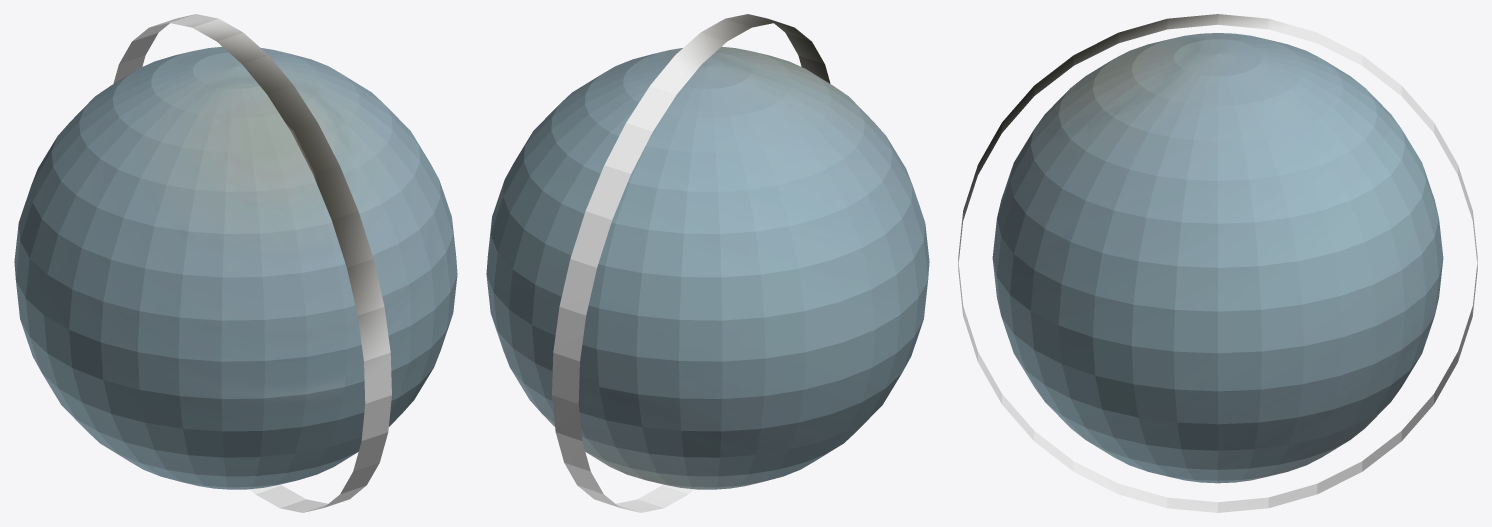
File: uranuswr.obj
3 renders of one model, left to right at view 1: azimuth 30°, elevation 25°; view 2: azimuth 150°, elevation 25°; view 3: azimuth 270°, elevation 25°, orthographic.
Parts seen in each view (by area): view 1: Sphere, Circle; view 2: Sphere, Circle; view 3: Sphere, Circle.
Part boxes in pixels (<box>): Sphere: <box>14,46,457,489</box>; Circle: <box>113,14,391,512</box>; Sphere: <box>486,46,929,489</box>; Circle: <box>552,14,830,512</box>; Sphere: <box>992,33,1443,483</box>; Circle: <box>958,14,1477,512</box>.
Size of the model in its own units: 6.96 by 8.03 by 8.02.
2 materials, 2 textured.
